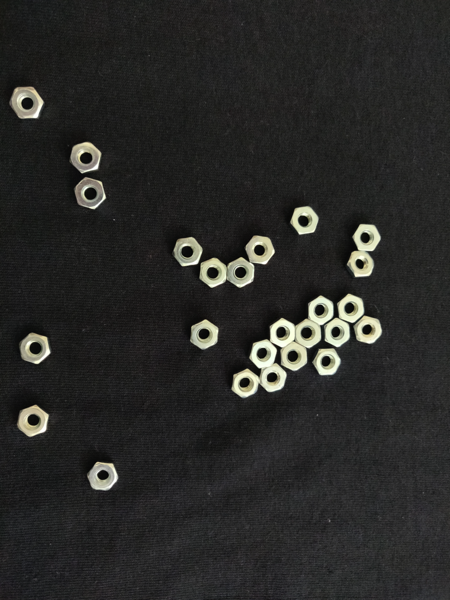nut: (9, 86, 46, 121), (72, 177, 108, 210), (16, 405, 52, 438), (17, 333, 52, 366), (68, 142, 103, 174), (84, 461, 120, 491), (172, 236, 205, 268), (287, 206, 321, 236), (189, 319, 220, 351), (243, 235, 276, 265), (266, 317, 297, 348), (230, 368, 261, 399), (350, 223, 382, 253), (352, 315, 383, 345), (199, 257, 228, 289), (279, 341, 309, 371), (345, 250, 376, 279), (337, 293, 366, 324), (311, 347, 342, 376), (259, 362, 288, 393), (227, 257, 255, 289), (323, 318, 352, 348), (307, 296, 335, 327), (296, 318, 324, 349), (249, 340, 278, 369)
